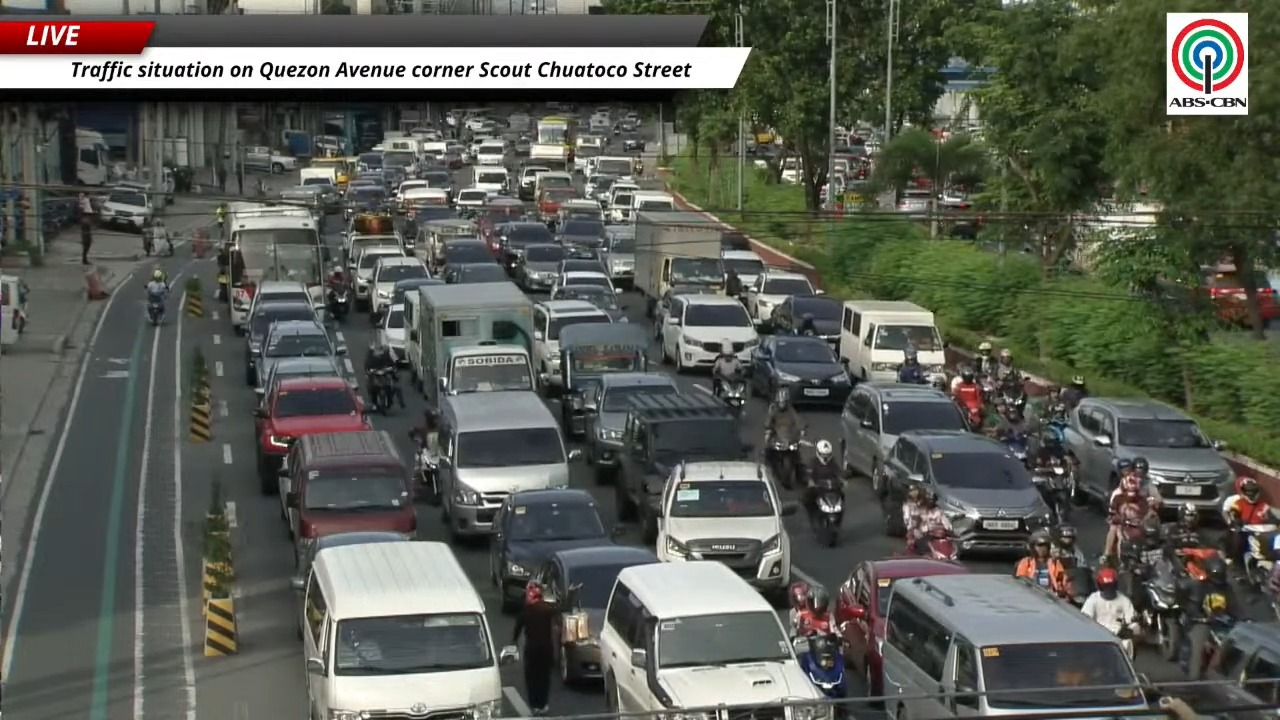bus: (223, 203, 327, 332), (530, 116, 576, 170), (308, 157, 355, 190)
car: (641, 460, 799, 603), (876, 430, 1052, 554), (612, 392, 747, 542), (1064, 397, 1234, 514), (835, 558, 968, 696), (534, 545, 658, 684), (490, 488, 613, 611), (255, 377, 372, 496), (838, 382, 967, 482), (584, 372, 678, 480), (661, 294, 758, 372), (748, 336, 851, 406), (290, 531, 408, 592), (533, 300, 611, 386), (1201, 621, 1279, 707), (245, 300, 317, 384), (253, 321, 346, 377), (255, 357, 357, 401), (746, 268, 817, 327), (770, 295, 842, 347), (371, 255, 429, 315), (654, 284, 716, 338), (353, 245, 404, 310), (496, 222, 553, 272), (474, 197, 524, 253), (551, 285, 627, 321), (245, 280, 315, 319), (514, 243, 565, 291), (98, 189, 154, 231), (598, 226, 635, 289), (556, 210, 604, 257), (721, 250, 765, 293), (279, 182, 335, 215), (376, 304, 407, 363), (437, 238, 495, 267), (343, 183, 387, 219), (444, 260, 509, 283), (242, 146, 296, 173), (391, 277, 443, 304), (517, 165, 550, 201), (552, 272, 611, 292), (419, 170, 453, 203), (584, 174, 616, 207), (556, 257, 605, 276), (455, 188, 490, 214), (393, 178, 428, 201), (720, 228, 751, 251), (622, 137, 645, 152), (514, 137, 532, 156)
motorcycle: (1168, 611, 1235, 679), (1139, 560, 1181, 659), (1239, 524, 1279, 602), (805, 634, 846, 700), (1033, 456, 1073, 523), (812, 481, 844, 546), (766, 434, 802, 489), (414, 437, 441, 505), (907, 525, 958, 560), (1060, 560, 1095, 607), (368, 367, 395, 414), (717, 378, 746, 412), (326, 285, 350, 319), (956, 400, 983, 430), (1004, 432, 1028, 463), (1042, 419, 1066, 447), (147, 297, 165, 326)
truck: (406, 283, 532, 406), (634, 212, 724, 314), (75, 127, 110, 185)
